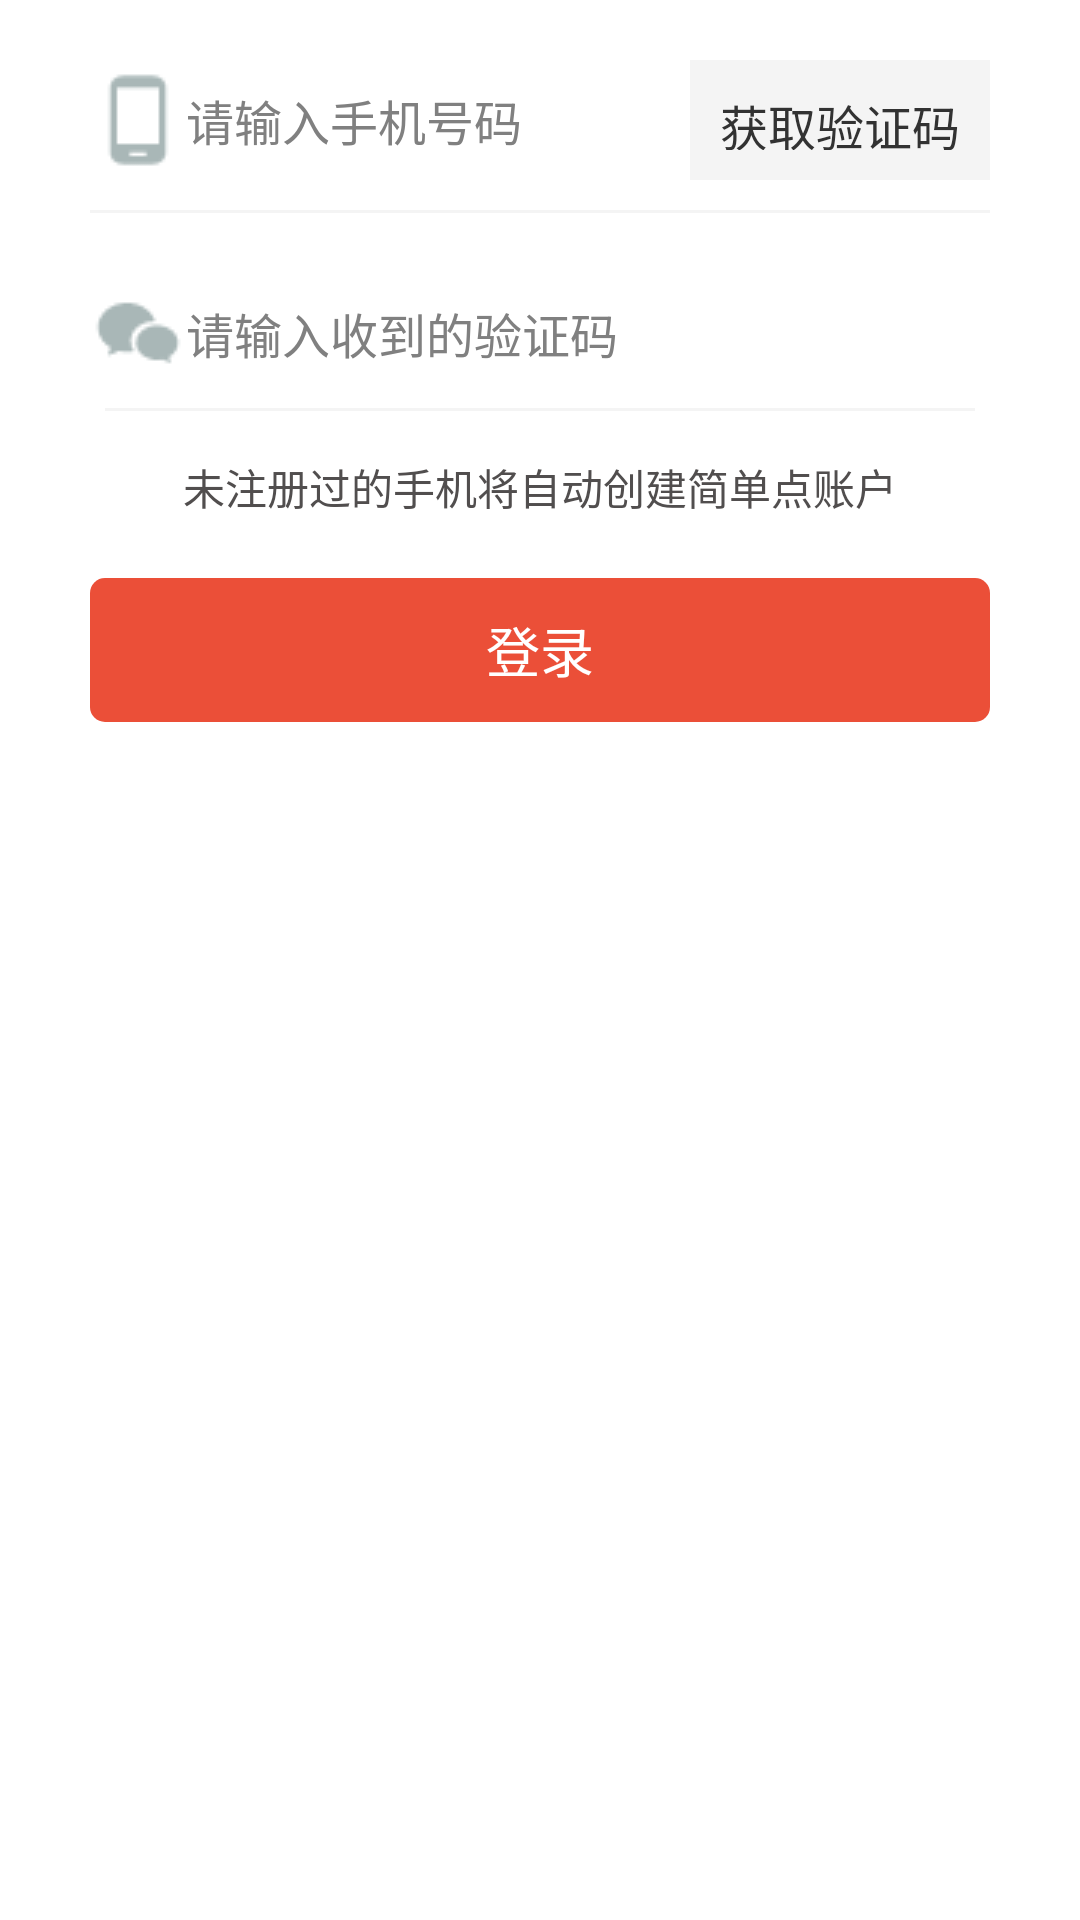

Icons on this 1080×1920 Android screen, each with the point to tap as (x,y):
message: (138,332)
phone: (138,120)
